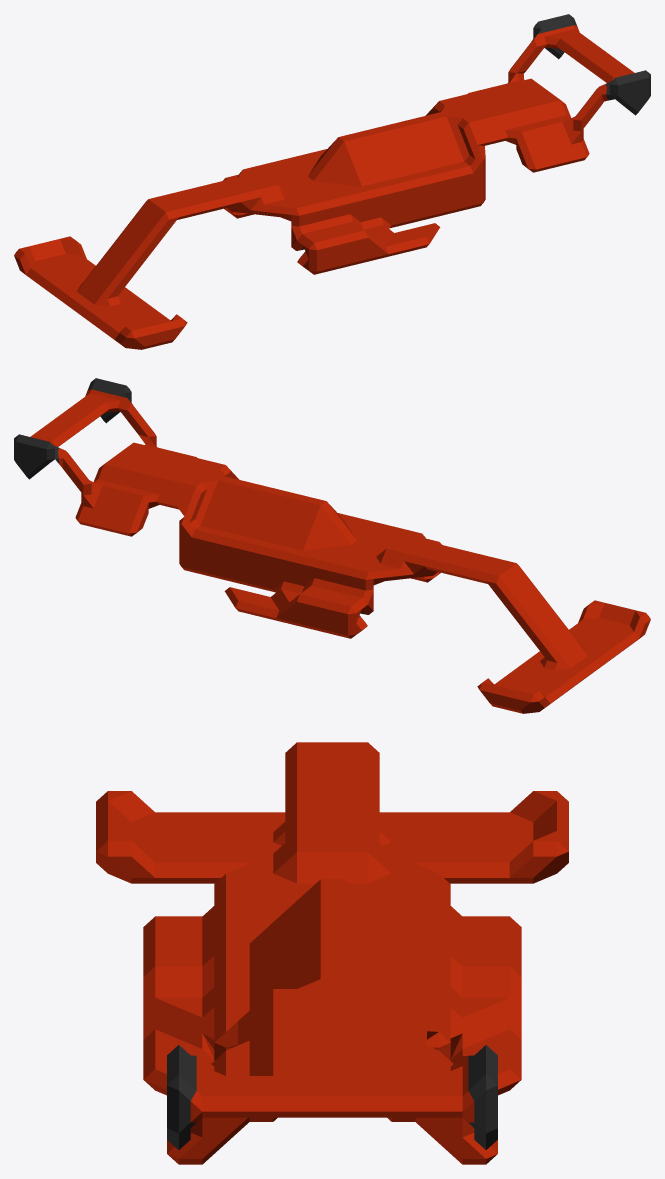
The model's file is rccar_f1_body.fbx.
3 renders of one model, top to bottom at view 1: azimuth 30°, elevation 25°; view 2: azimuth 150°, elevation 25°; view 3: azimuth 270°, elevation 25°, orthographic. The views are drawn at different scales.
Parts seen in each view (by area): view 1: rc_f1_body; view 2: rc_f1_body; view 3: rc_f1_body.
Boxes of the visible parts, x1=… form: rc_f1_body: x1=14, y1=14, x2=650, y2=349; rc_f1_body: x1=14, y1=378, x2=650, y2=713; rc_f1_body: x1=96, y1=742, x2=568, y2=1164.
Size of the model in its own units: 5300 by 1300 by 2000.
